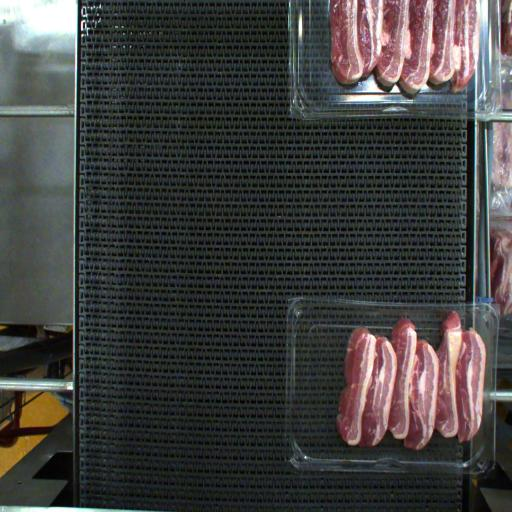twisted-meat: (441, 325, 457, 443)
